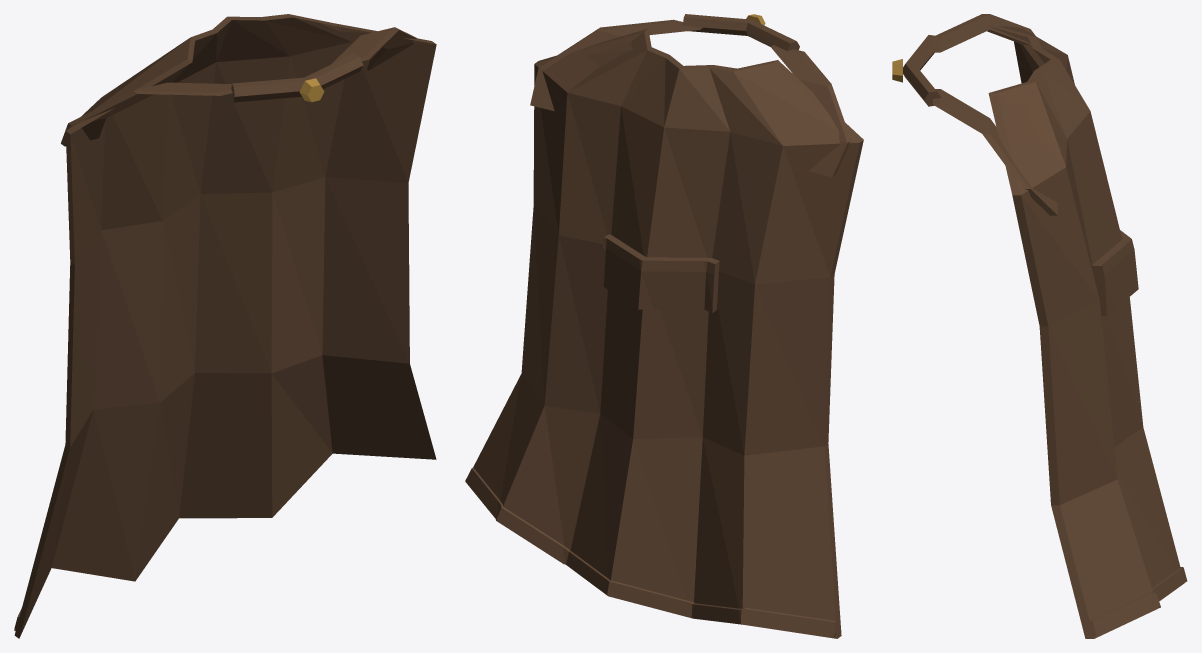
Rendered from leather_back-male-thickHide.glb.
3 renders of one model, left to right at view 1: azimuth 30°, elevation 25°; view 2: azimuth 150°, elevation 25°; view 3: azimuth 270°, elevation 25°, orthographic. The views are drawn at different scales.
Parts seen in each view (by area): view 1: leather draped back mantle, Mantle neck fastening, Mantle shoulder fall -1, Mantle shoulder fall 1; view 2: leather draped back mantle, Mantle weighted bound hem, Heavy hide binding leather draped back mantle, Mantle shoulder fall -1, Mantle shoulder fall 1, Mantle neck fastening; view 3: leather draped back mantle, Heavy hide binding leather draped back mantle, Mantle shoulder fall 1, Mantle weighted bound hem, Mantle shoulder fall -1, Mantle neck fastening.
Boxes of the visible parts, x1,y1,x2,y2 form: leather draped back mantle: [14, 14, 436, 638]; Mantle neck fastening: [231, 54, 363, 102]; Mantle shoulder fall -1: [61, 82, 232, 146]; Mantle shoulder fall 1: [331, 27, 416, 70]; leather draped back mantle: [468, 28, 863, 638]; Mantle weighted bound hem: [465, 467, 836, 637]; Heavy hide binding leather draped back mantle: [601, 234, 719, 312]; Mantle shoulder fall -1: [771, 45, 850, 176]; Mantle shoulder fall 1: [530, 19, 702, 111]; Mantle neck fastening: [683, 14, 799, 51]; leather draped back mantle: [988, 26, 1184, 638]; Heavy hide binding leather draped back mantle: [1092, 230, 1138, 315]; Mantle shoulder fall 1: [933, 89, 1057, 215]; Mantle weighted bound hem: [1089, 567, 1187, 636]; Mantle shoulder fall -1: [934, 14, 1043, 66]; Mantle neck fastening: [903, 35, 941, 106].
Size of the model in its own units: 2.58 by 3.44 by 1.67.
